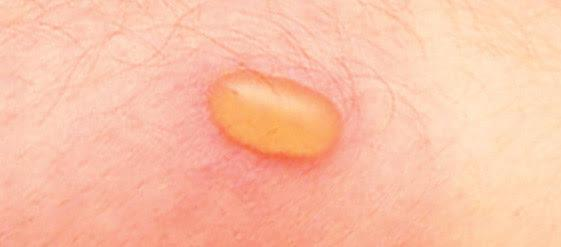Beetle: (174, 51, 370, 184)
